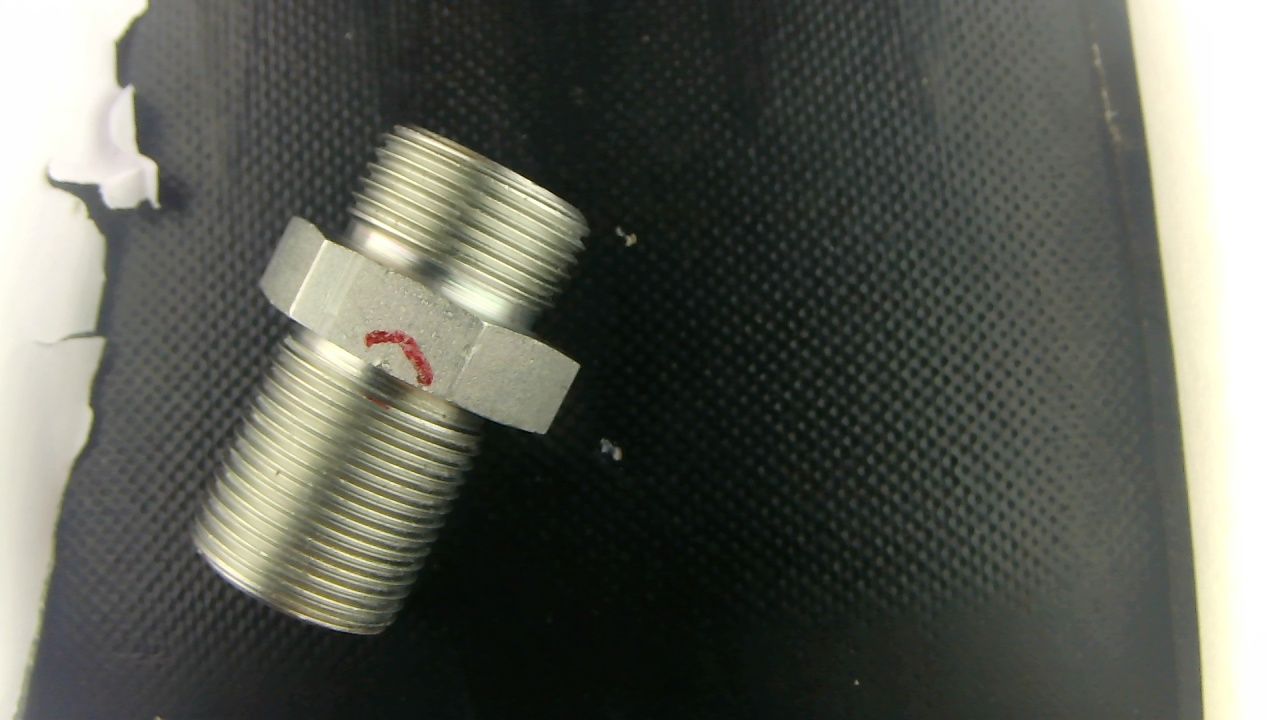SurfaceDent_Adaptor: (366, 360, 402, 383)
